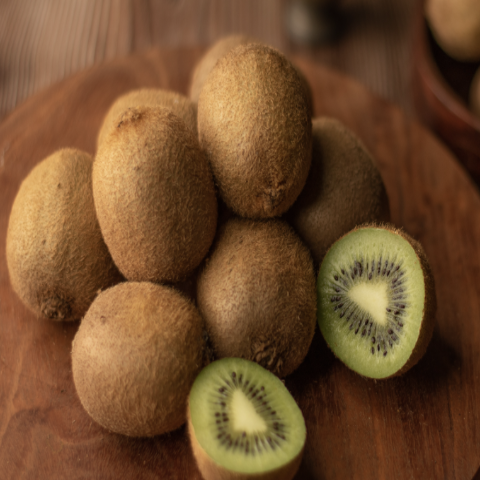kiwi: (58, 280, 226, 433), (88, 99, 232, 277), (193, 214, 333, 386), (195, 33, 325, 212), (5, 145, 119, 340)
